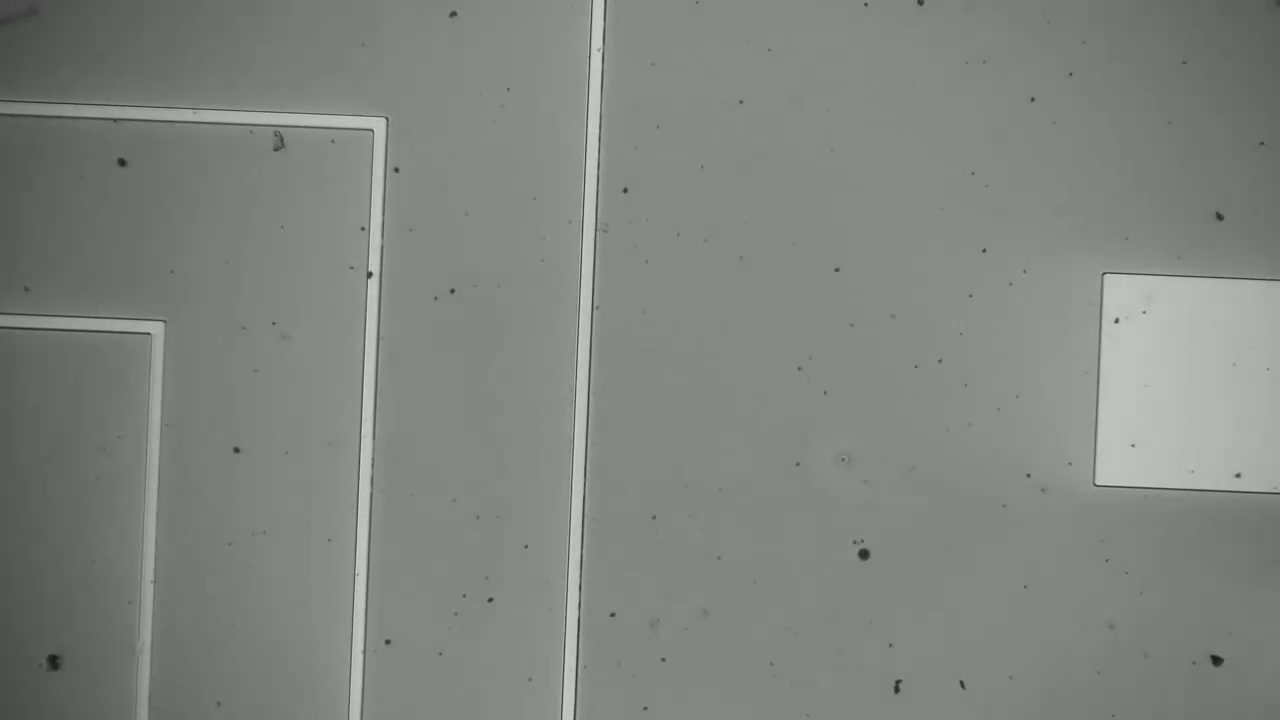stains_enbedded: (363, 262, 382, 284)
